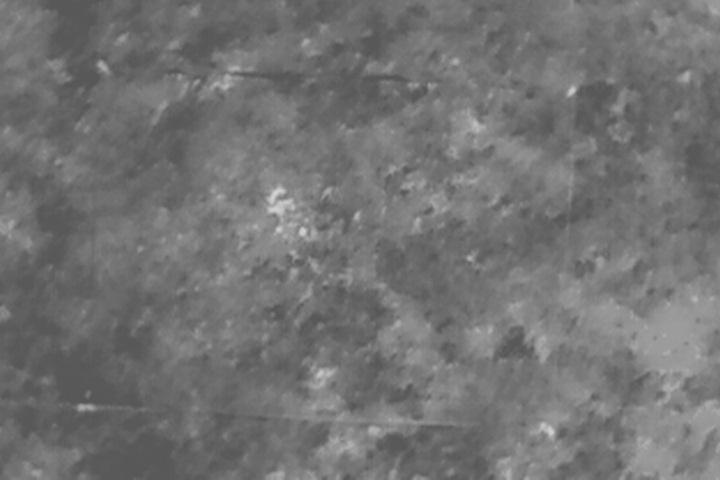landmine: (267, 185, 298, 219)
